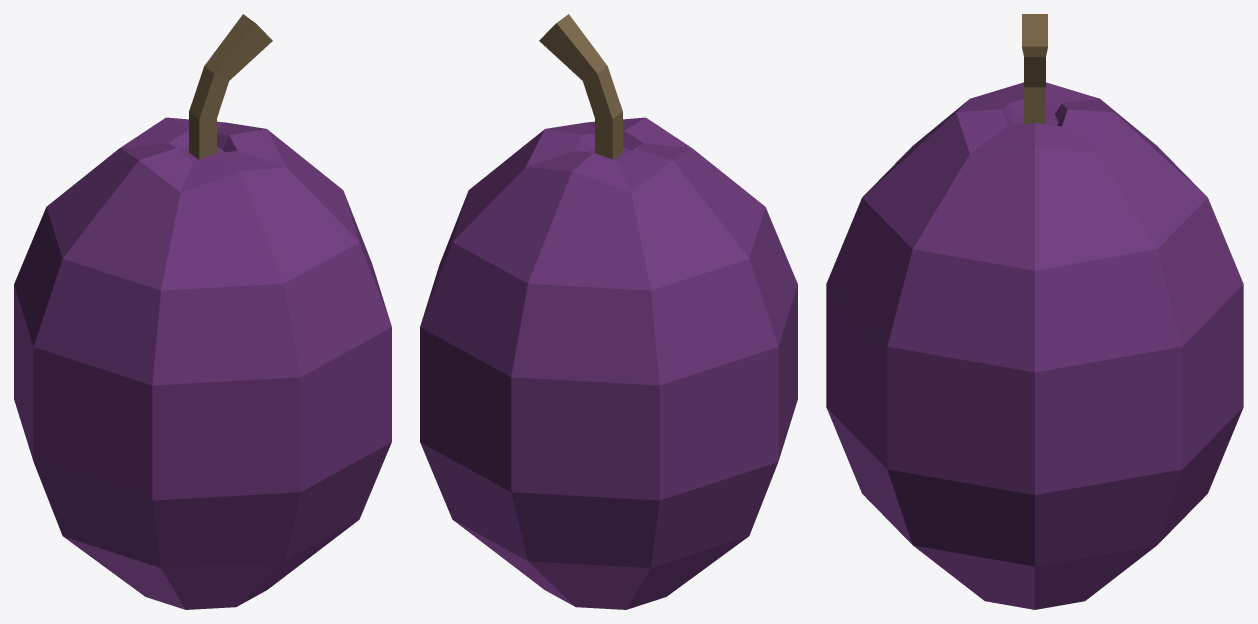
File: SM_Envr_Nature_Farm_Fruit_Plum.fbx
3 renders of one model, left to right at view 1: azimuth 30°, elevation 25°; view 2: azimuth 150°, elevation 25°; view 3: azimuth 270°, elevation 25°, orthographic. The views are drawn at different scales.
Parts seen in each view (by area): view 1: SM_Envr_Nature_Farm_Fruit_Plum; view 2: SM_Envr_Nature_Farm_Fruit_Plum; view 3: SM_Envr_Nature_Farm_Fruit_Plum.
Boxes of the visible parts, x1,y1,x2,y2 form: SM_Envr_Nature_Farm_Fruit_Plum: (14,14,391,609); SM_Envr_Nature_Farm_Fruit_Plum: (420,14,797,609); SM_Envr_Nature_Farm_Fruit_Plum: (826,14,1243,609).
Bounding box in the file's own units: 10.15 × 16.21 × 10.15.
